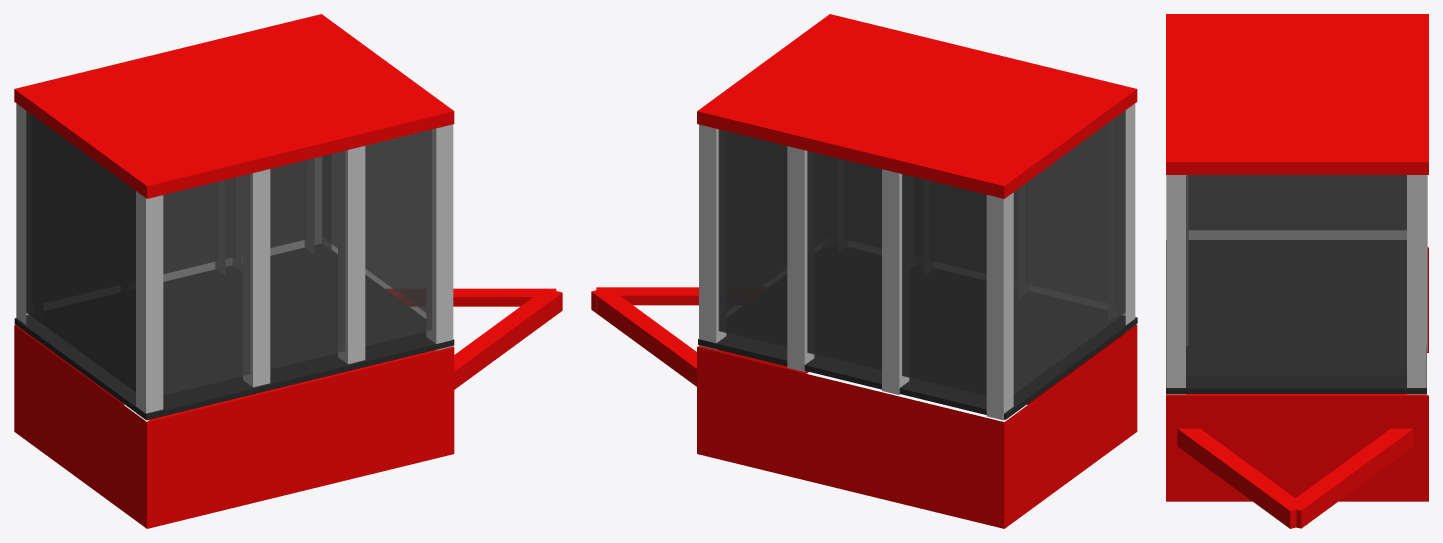
The model's file is Edificio extra.fbx.
3 views of the same model, side by side, from view 1: azimuth 30°, elevation 25°; view 2: azimuth 150°, elevation 25°; view 3: azimuth 270°, elevation 25° (orthographic).
Visible parts, largest first — view 1: BASE, Vidrio, BASE DEC, DEC; view 2: BASE, Vidrio, BASE DEC, DEC; view 3: BASE, Vidrio, DEC, BASE DEC.
Part boxes in pixels (<box>): BASE: <box>14,14,562,528</box>; Vidrio: <box>26,111,431,395</box>; BASE DEC: <box>16,103,453,419</box>; DEC: <box>14,244,454,420</box>; BASE: <box>591,14,1137,528</box>; Vidrio: <box>718,110,1125,396</box>; BASE DEC: <box>699,103,1135,420</box>; DEC: <box>698,315,1137,419</box>; BASE: <box>1166,14,1428,528</box>; Vidrio: <box>1186,175,1406,374</box>; DEC: <box>1166,240,1426,393</box>; BASE DEC: <box>1166,175,1427,394</box>.
Size of the model in its own units: 388 by 266 by 187.
